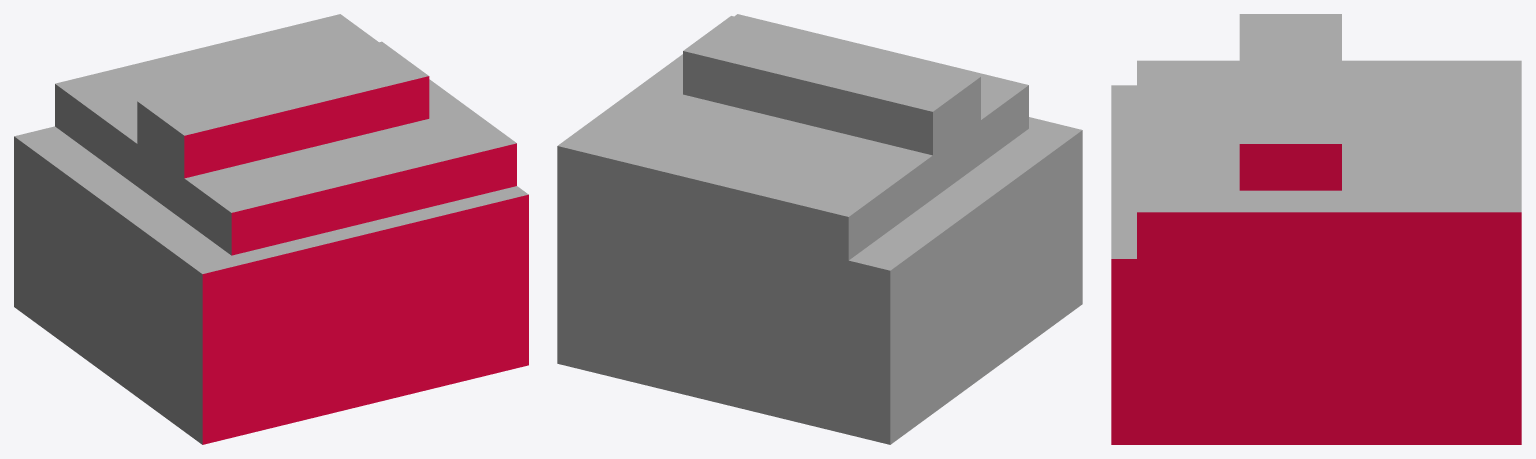
The model's file is stone_1.gltf.
The picture shows the model from 3 angles, left to right: view 1: azimuth 30°, elevation 25°; view 2: azimuth 150°, elevation 25°; view 3: azimuth 270°, elevation 25°; orthographic projection. The views are drawn at different scales.
Visible parts, largest first — view 1: mesh (×3); view 2: mesh (×3); view 3: mesh (×3).
Boxes of the visible parts, x1,y1,x2,y2 form: mesh (×3): (14, 14, 528, 444); mesh (×3): (557, 14, 1082, 444); mesh (×3): (1111, 14, 1521, 444).
Size of the model in its own units: 1 by 0.75 by 1.
Materials: 1 (1 with a texture image).
